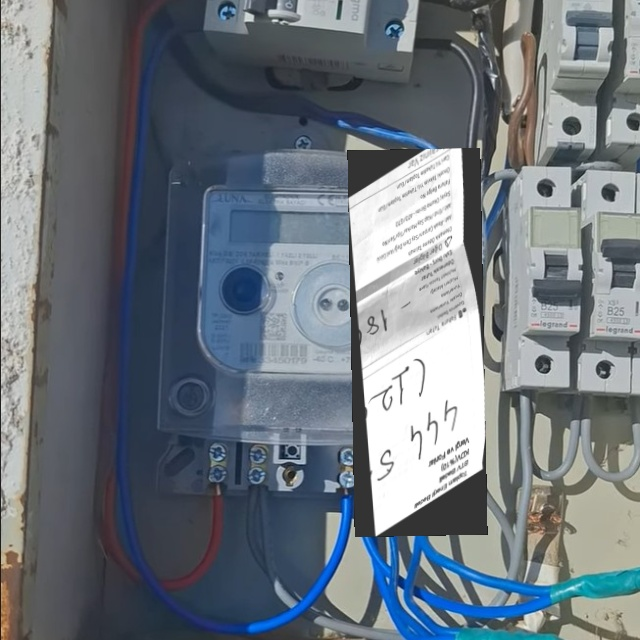electricity-bill: (347, 148, 488, 536)
